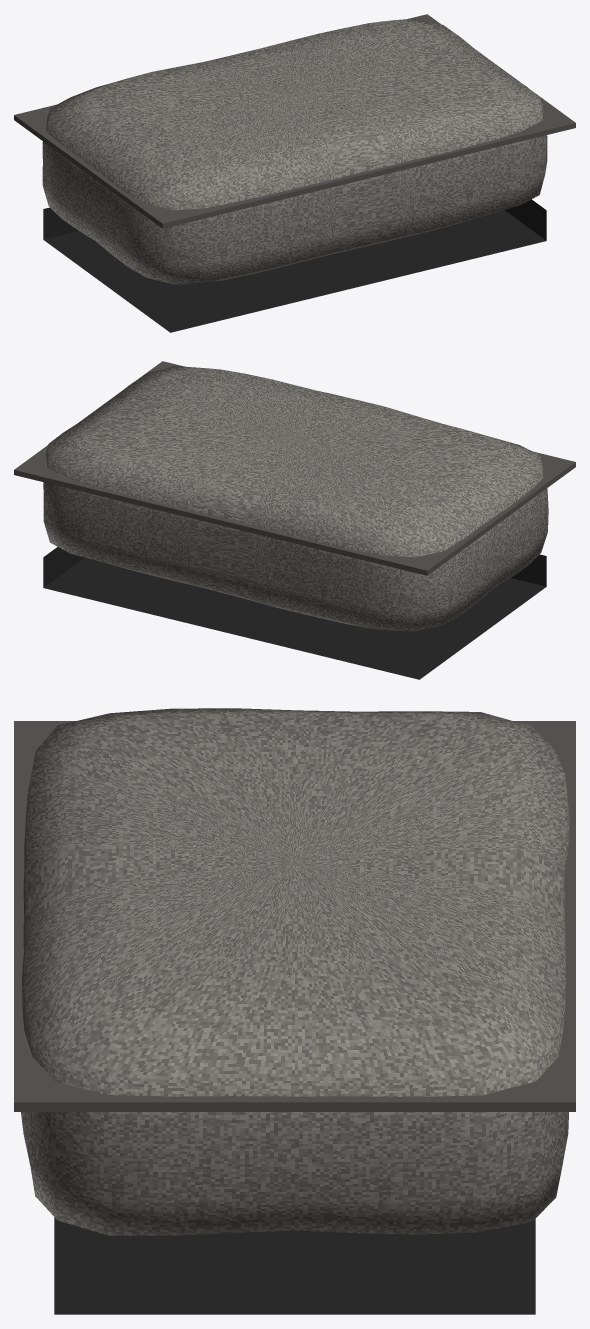
Rendered from chaise5.glb.
3 renders of one model, top to bottom at view 1: azimuth 30°, elevation 25°; view 2: azimuth 150°, elevation 25°; view 3: azimuth 270°, elevation 25°, orthographic. The views are drawn at different scales.
Visible parts, largest first — view 1: root; view 2: root; view 3: root.
Boxes of the visible parts, bbox=[...] form: root: bbox=[14, 14, 575, 332]; root: bbox=[14, 361, 575, 679]; root: bbox=[14, 708, 575, 1314].
Size of the model in its own units: 1.29 by 0.4418 by 0.8047.
3 materials, 1 textured.
